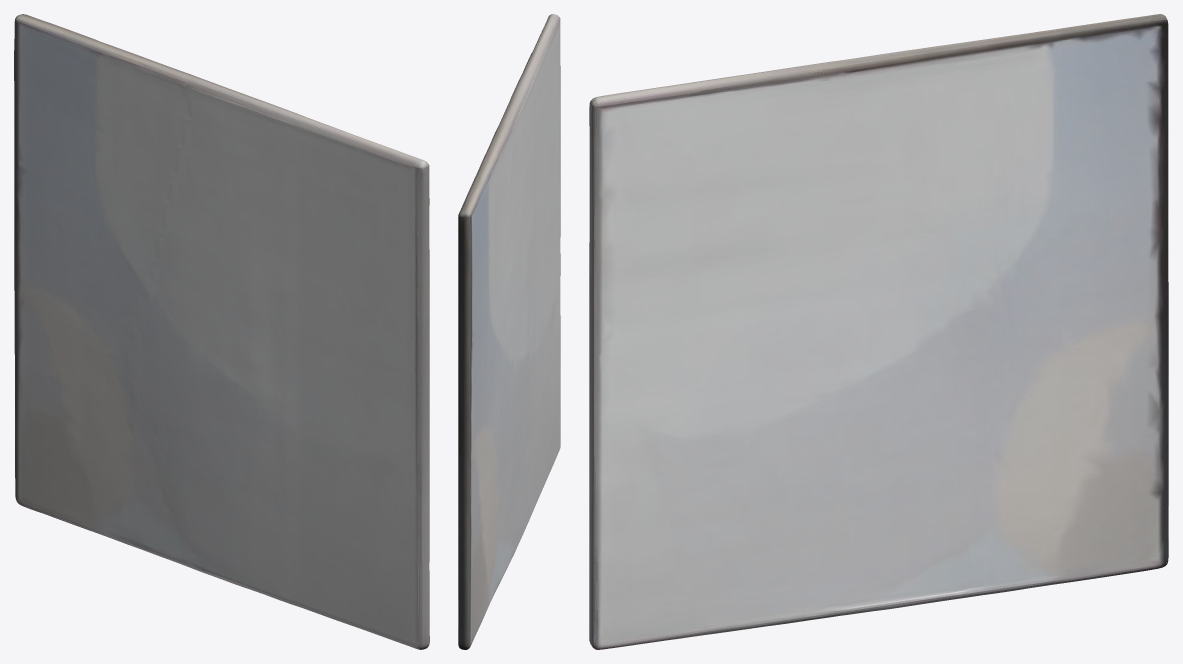
Rendered from abstract_wall_art_above_bed_000.glb.
3 views of the same model, side by side, from view 1: azimuth 30°, elevation 25°; view 2: azimuth 150°, elevation 25°; view 3: azimuth 270°, elevation 25° (orthographic). The views are drawn at different scales.
Visible parts, largest first — view 1: phase2_final_abstract_wall_art_above_bed_000.obj; view 2: phase2_final_abstract_wall_art_above_bed_000.obj; view 3: phase2_final_abstract_wall_art_above_bed_000.obj.
Part boxes in pixels (bbox=[...]): phase2_final_abstract_wall_art_above_bed_000.obj: bbox=[14, 14, 429, 649]; phase2_final_abstract_wall_art_above_bed_000.obj: bbox=[458, 14, 560, 649]; phase2_final_abstract_wall_art_above_bed_000.obj: bbox=[589, 14, 1168, 649].
Bounding box in the file's own units: 0.2008 × 0.5729 × 0.544.
1 material, 1 textured.
